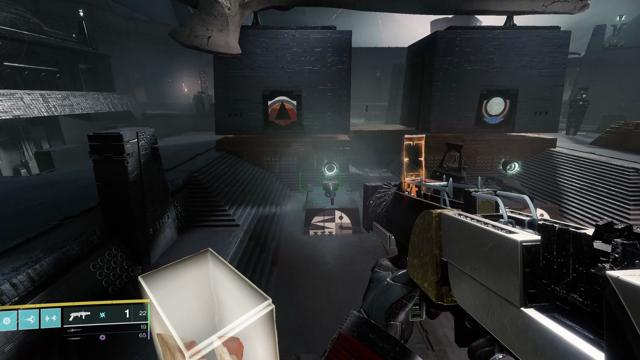pyramid: (268, 96, 298, 126)
traveler: (480, 94, 511, 124)
